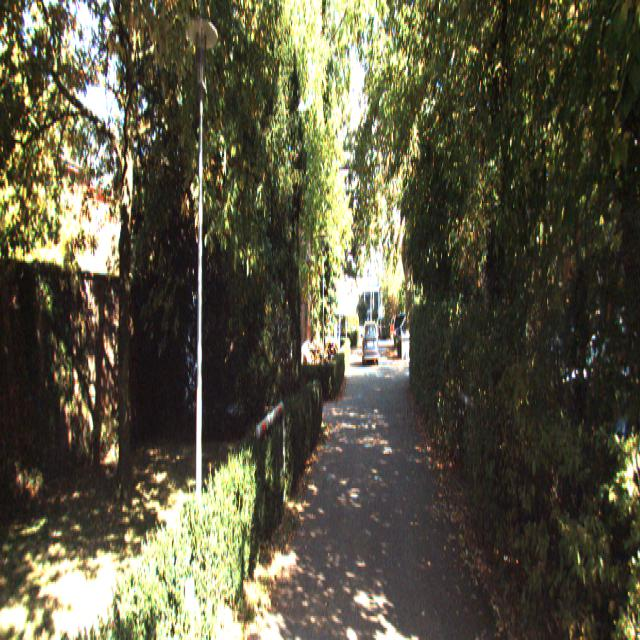Car: (363, 319, 380, 367)
